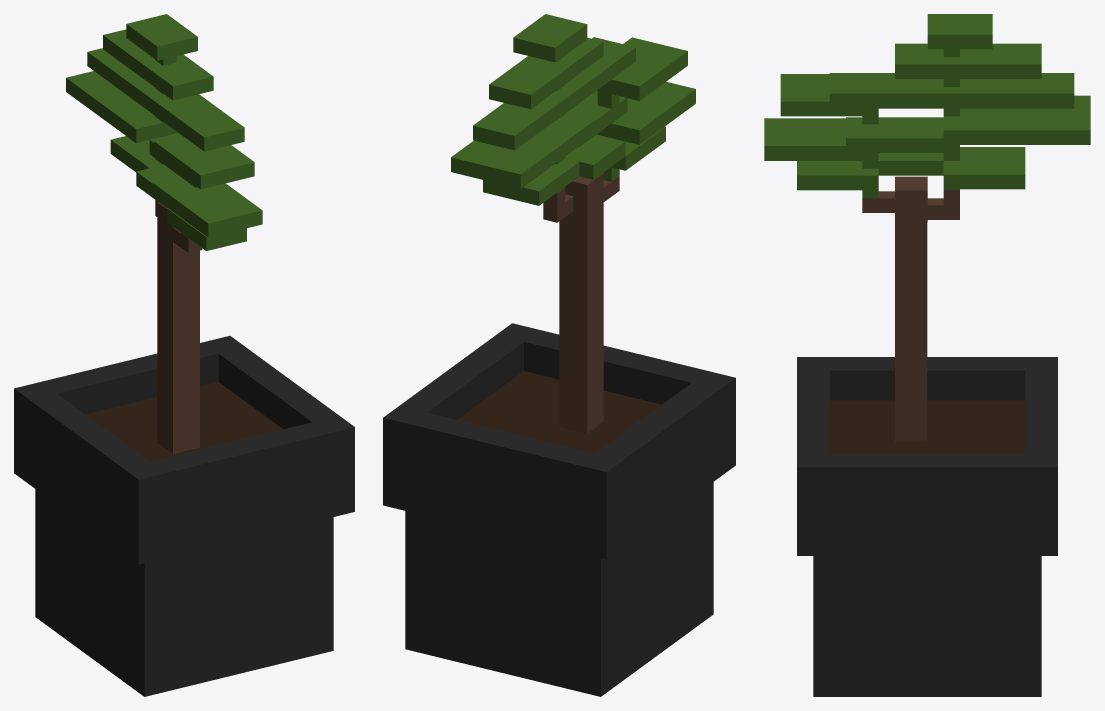
Rendered from plant_big_01.dae.
3 views of the same model, side by side, from view 1: azimuth 30°, elevation 25°; view 2: azimuth 150°, elevation 25°; view 3: azimuth 270°, elevation 25° (orthographic). The views are drawn at different scales.
Parts seen in each view (by area): view 1: Untitled; view 2: Untitled; view 3: Untitled.
Part boxes in pixels (left/top/right/bottom): Untitled: left=14, top=14, right=354, bottom=696; Untitled: left=383, top=14, right=735, bottom=696; Untitled: left=764, top=14, right=1090, bottom=696.
Size of the model in its own units: 0.48 by 0.6 by 1.26.
Materials: 1 (1 with a texture image).
